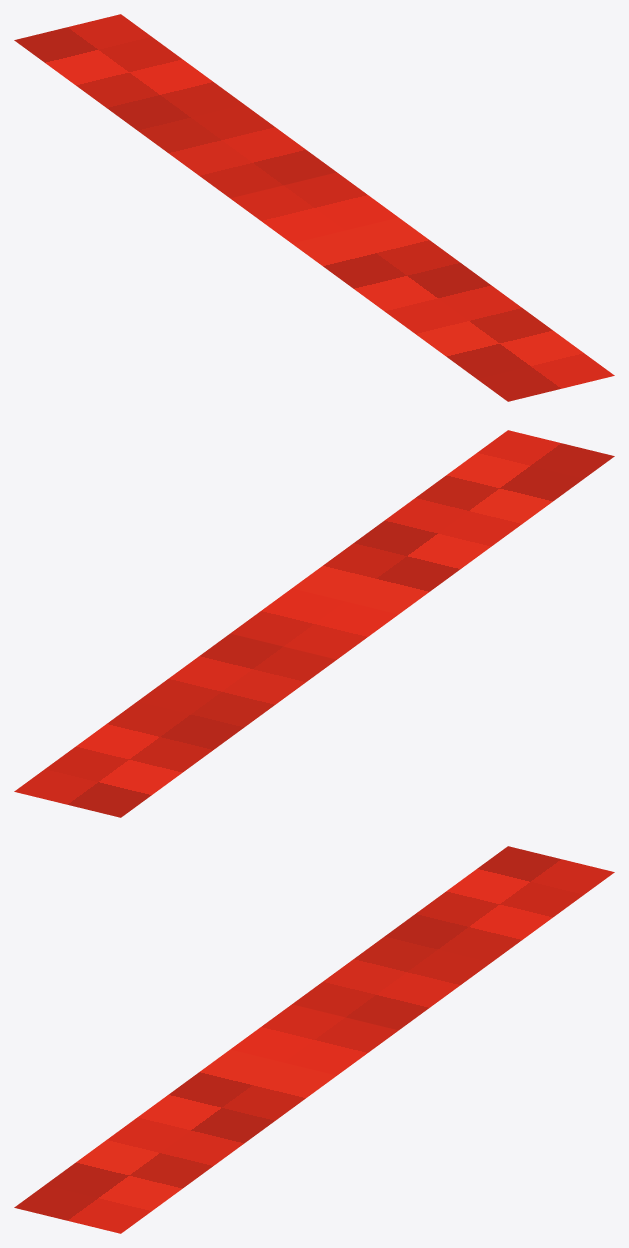
Rendered from dust_on_0011.gltf.
3 views of the same model, one above another, from view 1: azimuth 30°, elevation 25°; view 2: azimuth 150°, elevation 25°; view 3: azimuth 330°, elevation 25° (orthographic).
Parts seen in each view (by area): view 1: dust_on_0011; view 2: dust_on_0011; view 3: dust_on_0011.
Boxes of the visible parts, bbox=[...] form: dust_on_0011: bbox=[14, 14, 614, 401]; dust_on_0011: bbox=[14, 430, 614, 817]; dust_on_0011: bbox=[14, 846, 614, 1233].
Size of the model in its own units: 0.125 by 0 by 1.
1 material, 1 textured.
